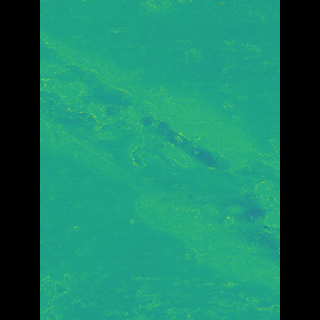Loch: (69, 26, 250, 292)
